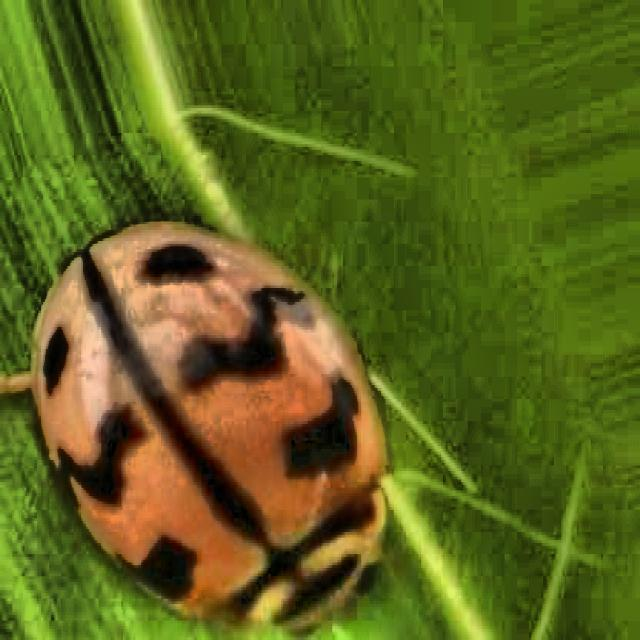Asian-Lady-beetle: (6, 173, 416, 640)
